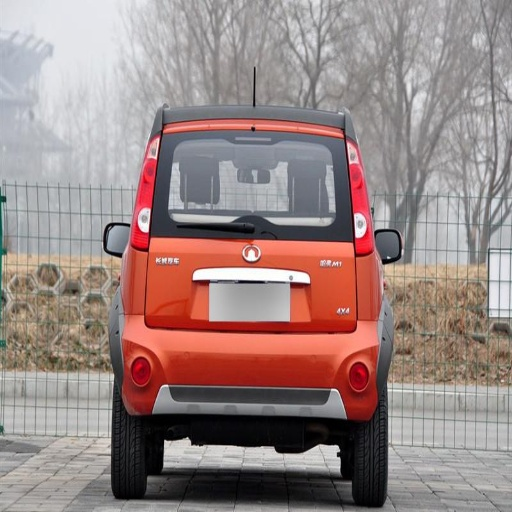back_bumper: (126, 315, 378, 417)
trunk: (130, 217, 372, 382)
